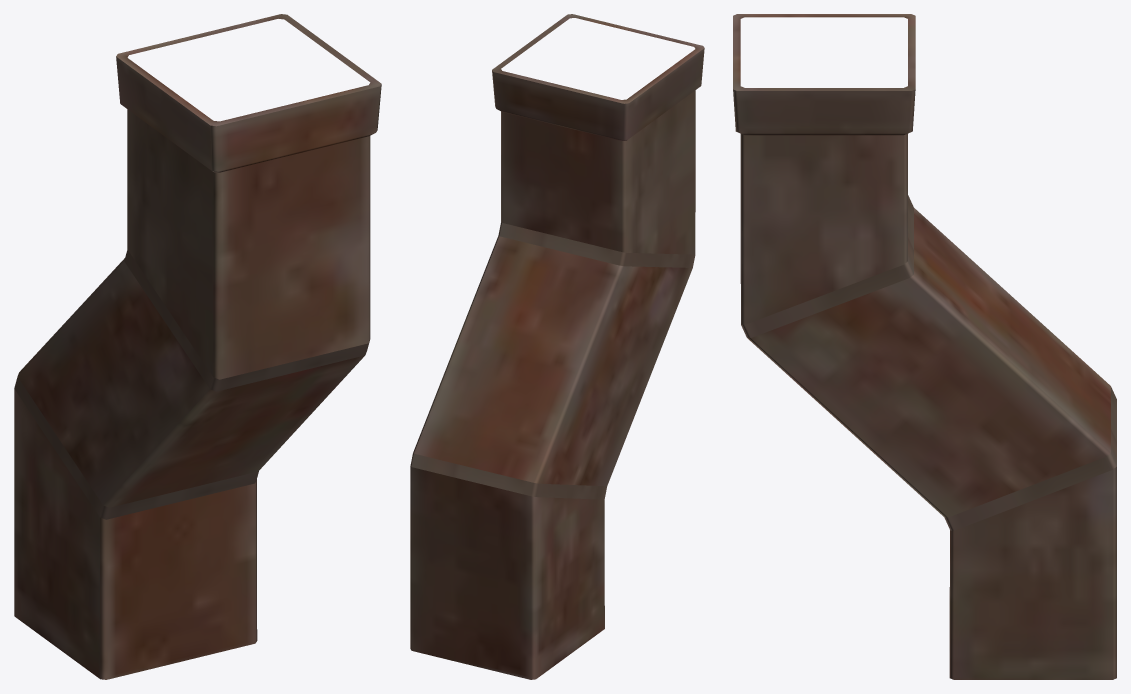
The model's file is gutter_overhang_125.glb.
The picture shows the model from 3 angles, left to right: view 1: azimuth 30°, elevation 25°; view 2: azimuth 150°, elevation 25°; view 3: azimuth 270°, elevation 25°; orthographic projection. The views are drawn at different scales.
Parts seen in each view (by area): view 1: gutter_overhang_125; view 2: gutter_overhang_125; view 3: gutter_overhang_125.
Boxes of the visible parts, x1=… form: gutter_overhang_125: x1=14, y1=14, x2=381, y2=679; gutter_overhang_125: x1=410, y1=14, x2=704, y2=679; gutter_overhang_125: x1=733, y1=14, x2=1116, y2=679.
Size of the model in its own units: 0.1092 by 0.3906 by 0.2296.
Materials: 1 (1 with a texture image).
